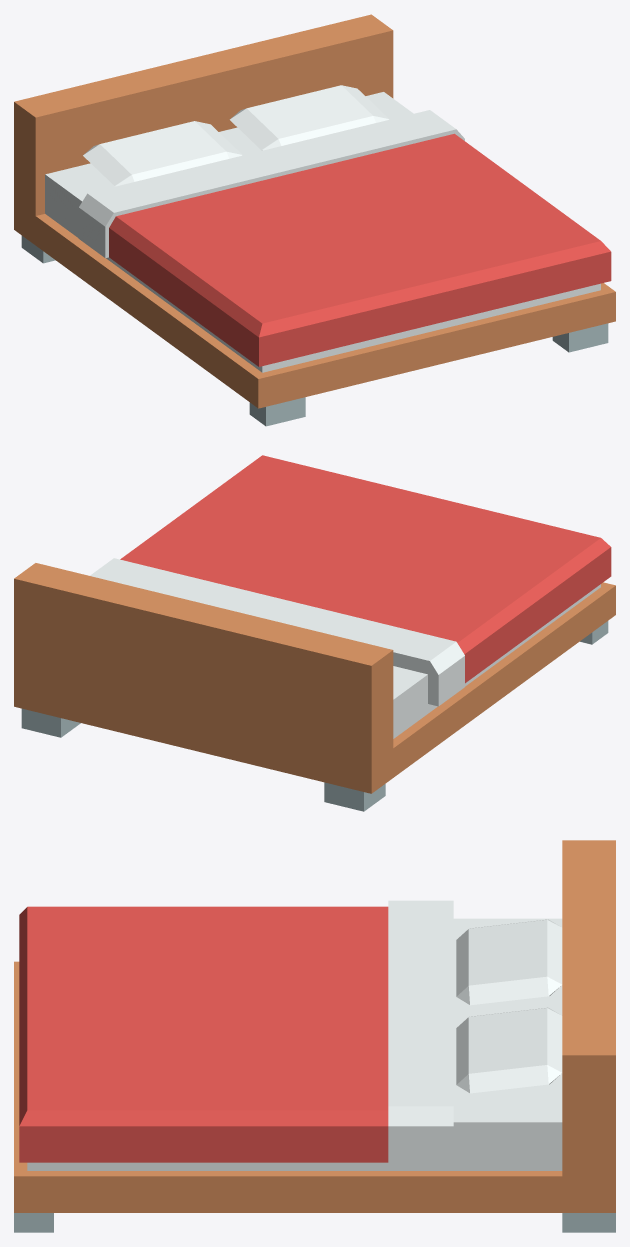
Rendered from Bed Double.glb.
The picture shows the model from 3 angles, top to bottom: view 1: azimuth 30°, elevation 25°; view 2: azimuth 150°, elevation 25°; view 3: azimuth 270°, elevation 25°; orthographic projection. The views are drawn at different scales.
Visible parts, largest first — view 1: cover, bedDouble(Clone), pillowRight, pillowLeft; view 2: bedDouble(Clone), cover; view 3: cover, bedDouble(Clone), pillowRight, pillowLeft.
Part boxes in pixels (x1,y1,x2,y2): cover: (78,110,611,366); bedDouble(Clone): (14,14,615,426); pillowRight: (229,85,388,150); pillowLeft: (83,121,241,186); bedDouble(Clone): (14,563,615,811); cover: (90,455,611,706); cover: (19,900,453,1164); bedDouble(Clone): (14,840,615,1232); pillowRight: (456,1007,562,1093); pillowLeft: (456,919,562,1005).
Size of the model in its own units: 0.956 by 0.375 by 1.12.
